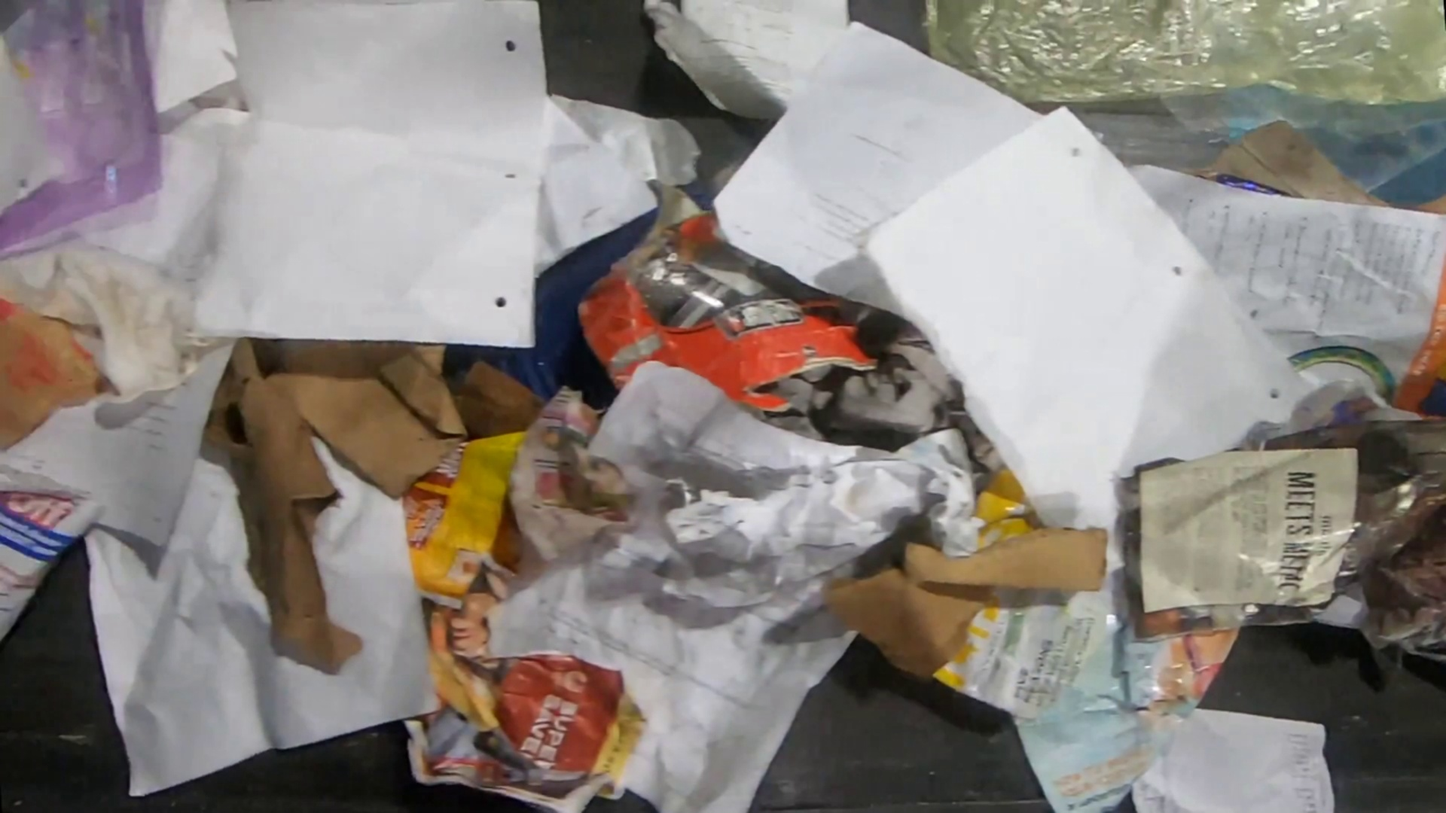cardboard: (198, 335, 548, 677), (578, 181, 885, 415), (819, 525, 1110, 686), (932, 589, 1112, 723), (403, 430, 528, 609), (1166, 119, 1399, 208), (971, 464, 1044, 551), (1413, 195, 1446, 216)
plastic: (920, 0, 1446, 106), (444, 208, 658, 418), (0, 0, 165, 262), (1223, 86, 1446, 211), (676, 175, 713, 212)
